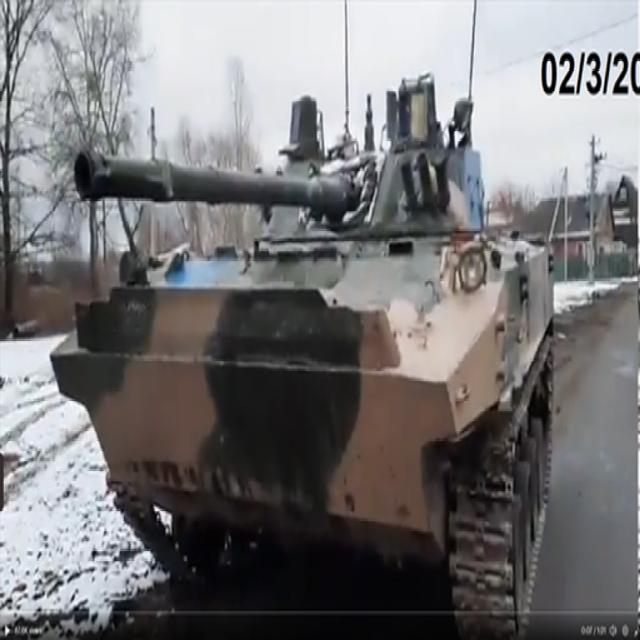APC-IFV: (42, 78, 558, 633)
